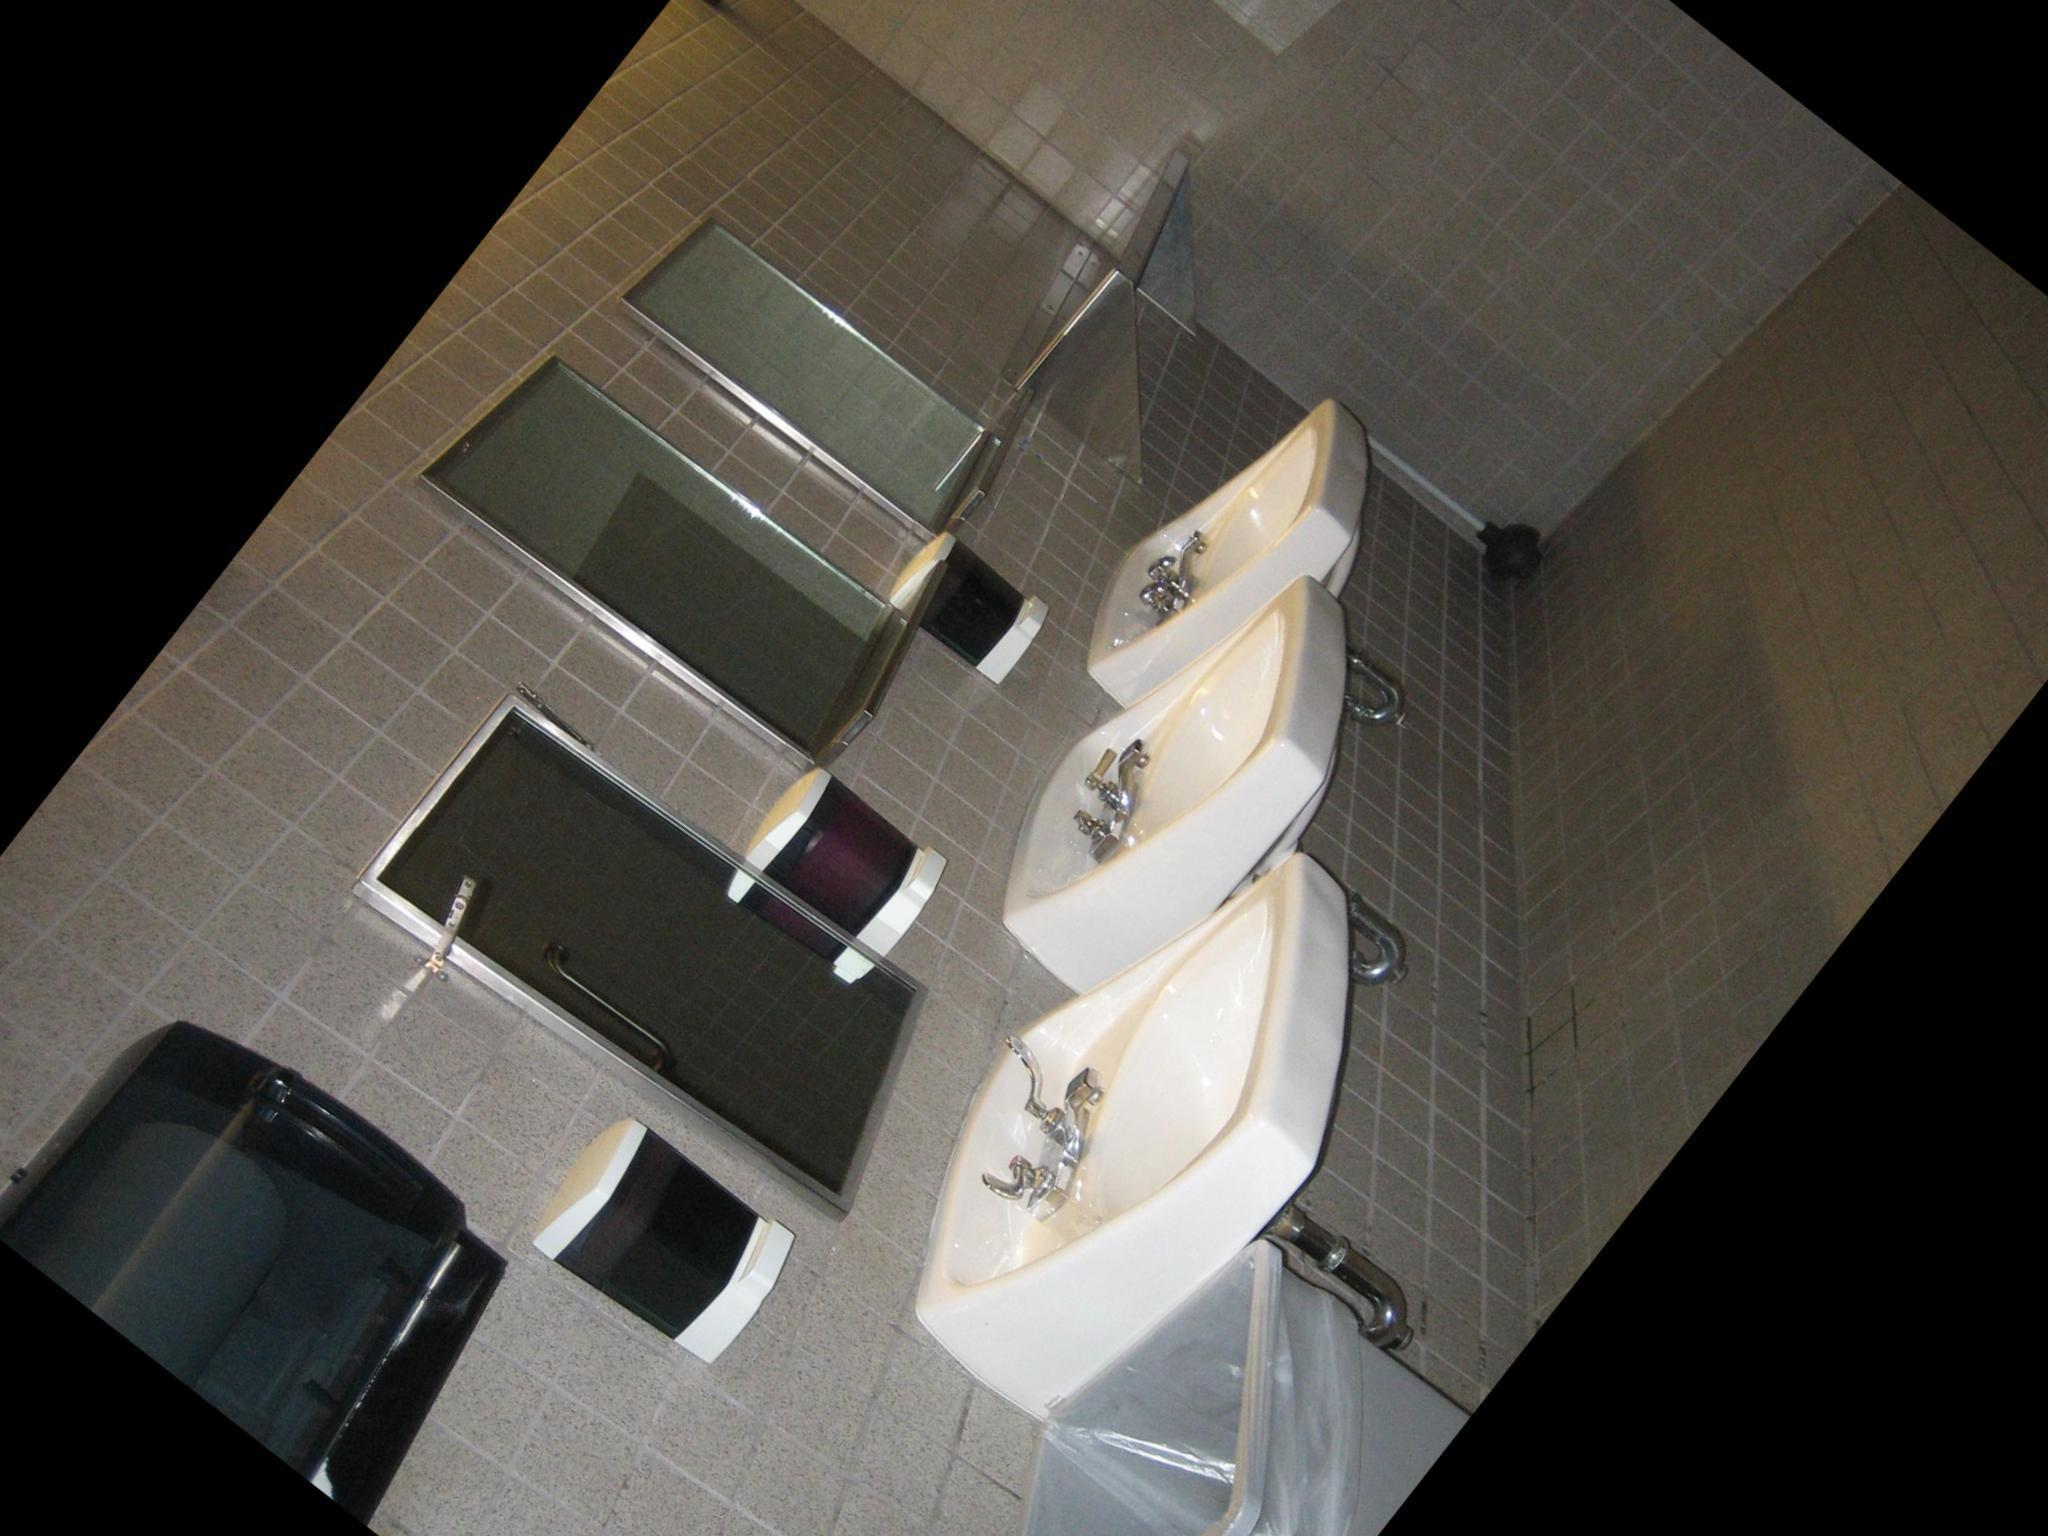Bote de Basura: (851, 1181, 1477, 1536)
Lavamanos: (848, 787, 1517, 1492), (934, 481, 1482, 1066), (1053, 336, 1435, 753)
